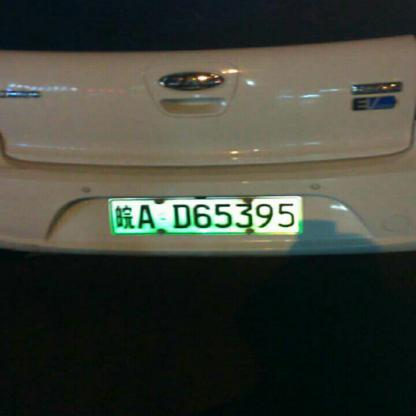lp: (109, 196, 304, 235)
